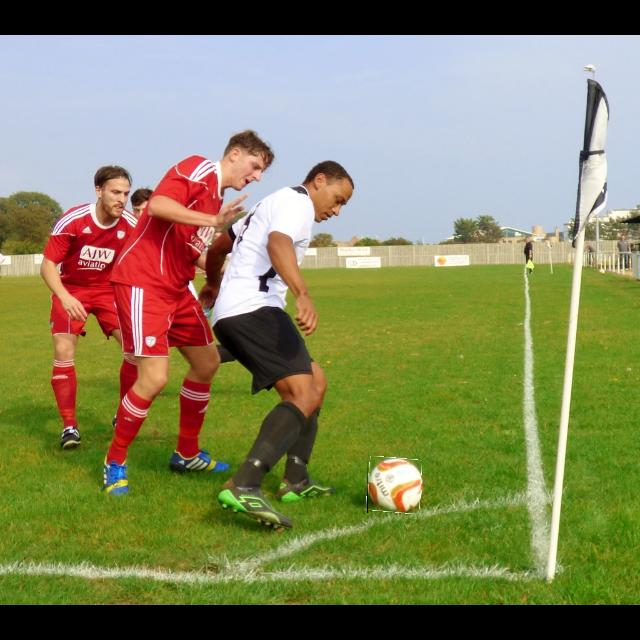Football: (367, 457, 421, 513)
